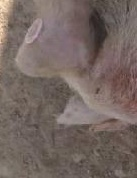text: (19, 13, 49, 52)
